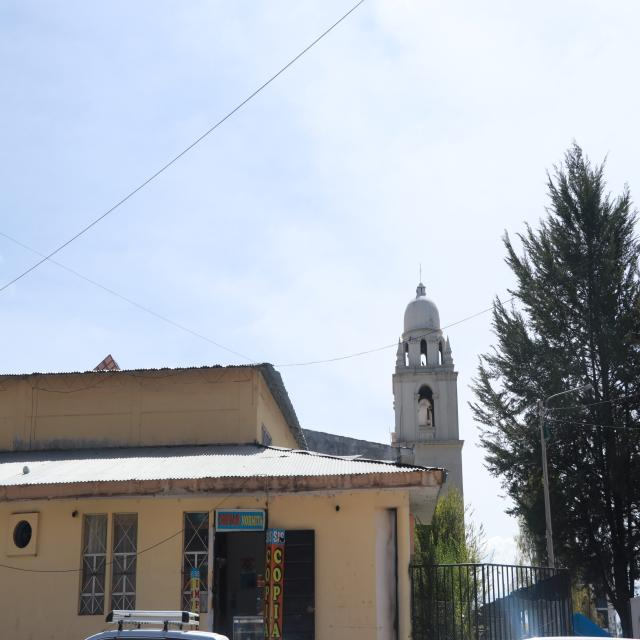CAMPANARIO: (384, 363, 467, 449)
CUPULA: (392, 278, 455, 363)
TORRES: (365, 217, 493, 640)
colonial-architecture-: (367, 200, 507, 639)
